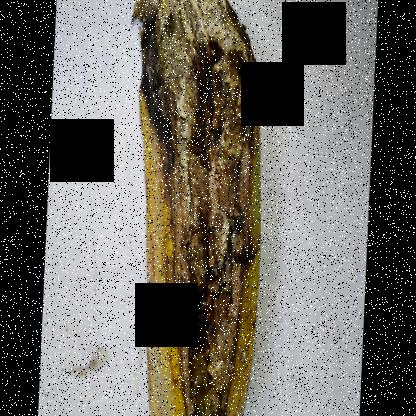rotten: (123, 1, 277, 415)
